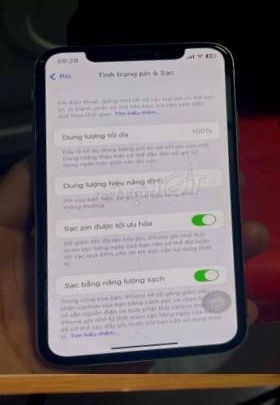scratch: (34, 53, 51, 68)
